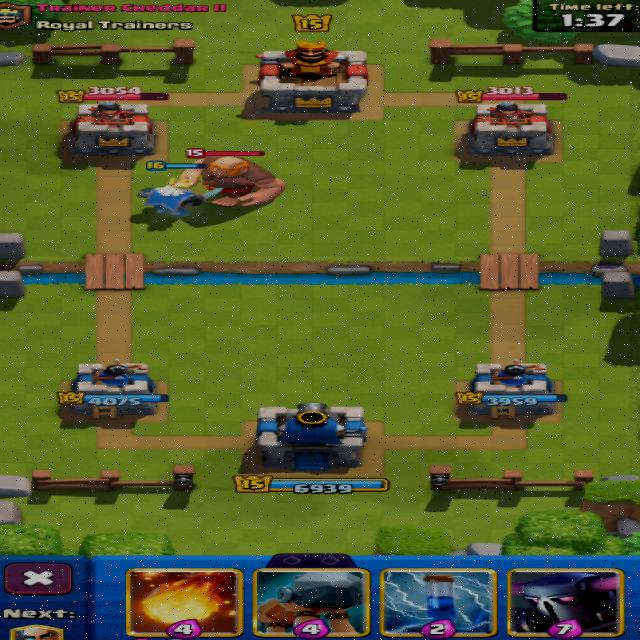Enemy-Giant: (181, 157, 284, 205)
Enemy-KingTower: (258, 42, 367, 114)
Enemy-PrincessTower: (469, 102, 553, 156), (70, 101, 154, 155)
Player-KingTower-Activated: (256, 403, 367, 471)
Player-PrincessTower: (58, 359, 167, 418), (457, 360, 565, 419)
Player-RoyalGhost: (138, 179, 220, 216)
